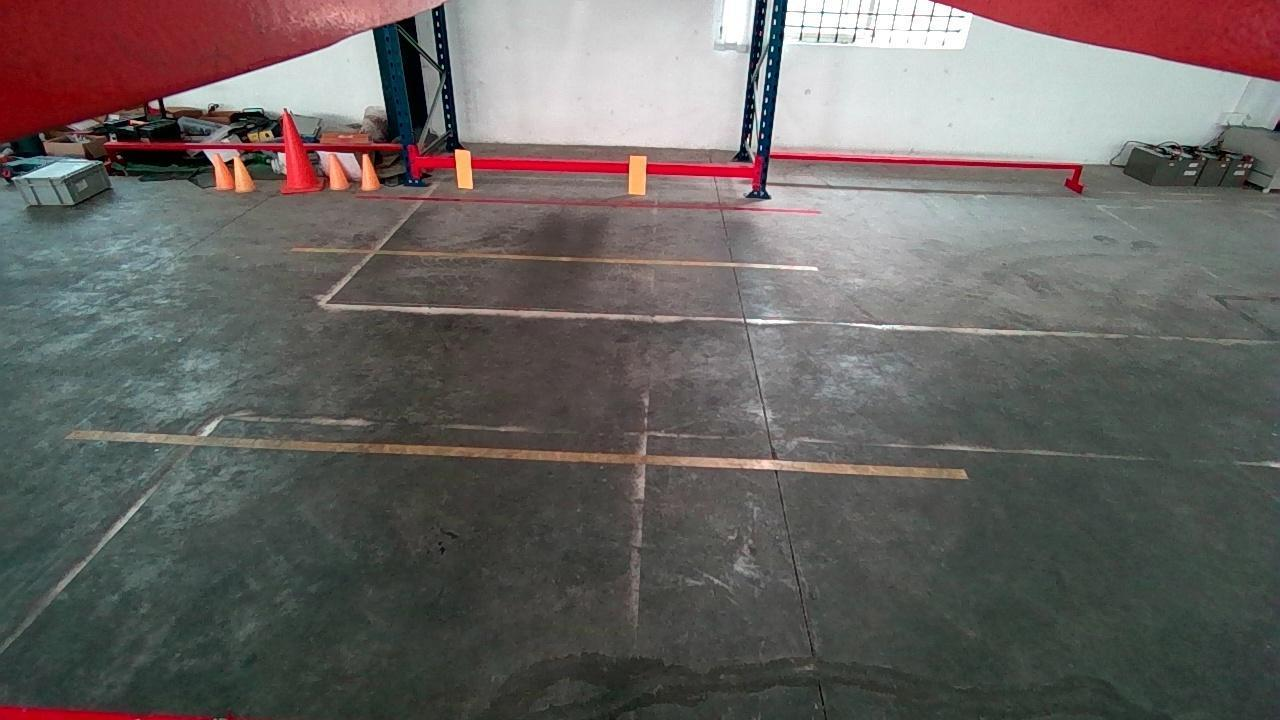h_rack: (417, 157, 754, 175)
orange_strip: (454, 148, 474, 186), (629, 154, 646, 194)
yellow_line: (66, 429, 970, 481), (292, 247, 818, 271)
